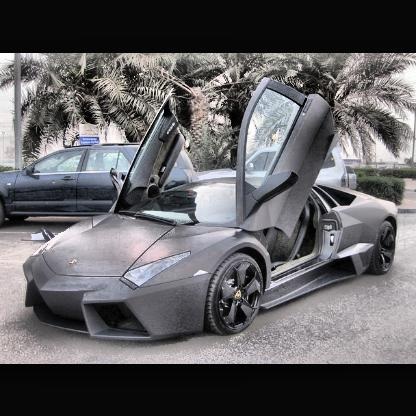Lamborghini Reventon Coupe 2008: (23, 174, 399, 341)
